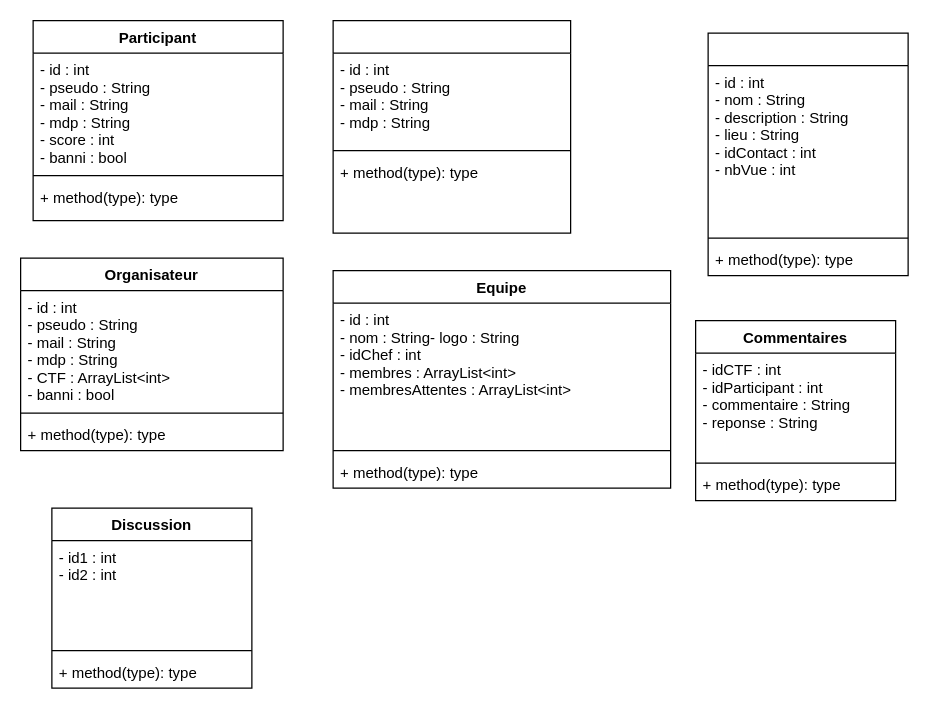
The diagram is 929 pixels wide and 709 high, and some of its shapes have lost their labels. Here are the shapes that lost their labels. From the top down, the box of each, then its label:
(332, 19, 571, 233): Administrateur
(707, 32, 908, 276): CTF
